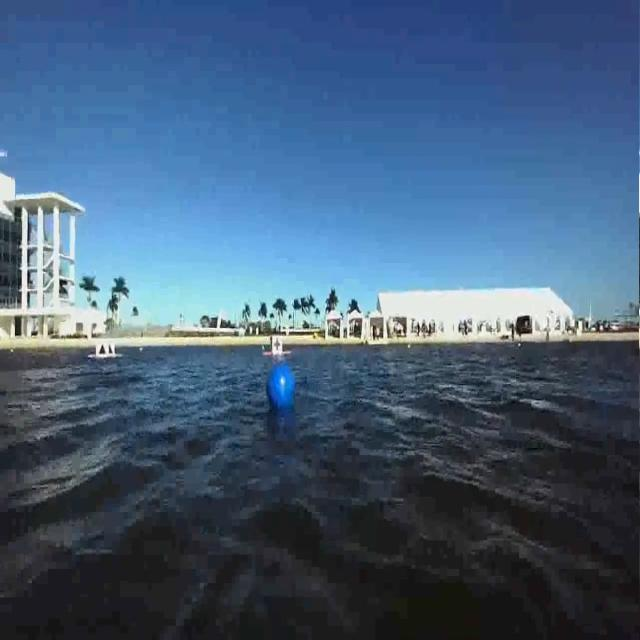blue-buoy: (266, 362, 296, 412)
